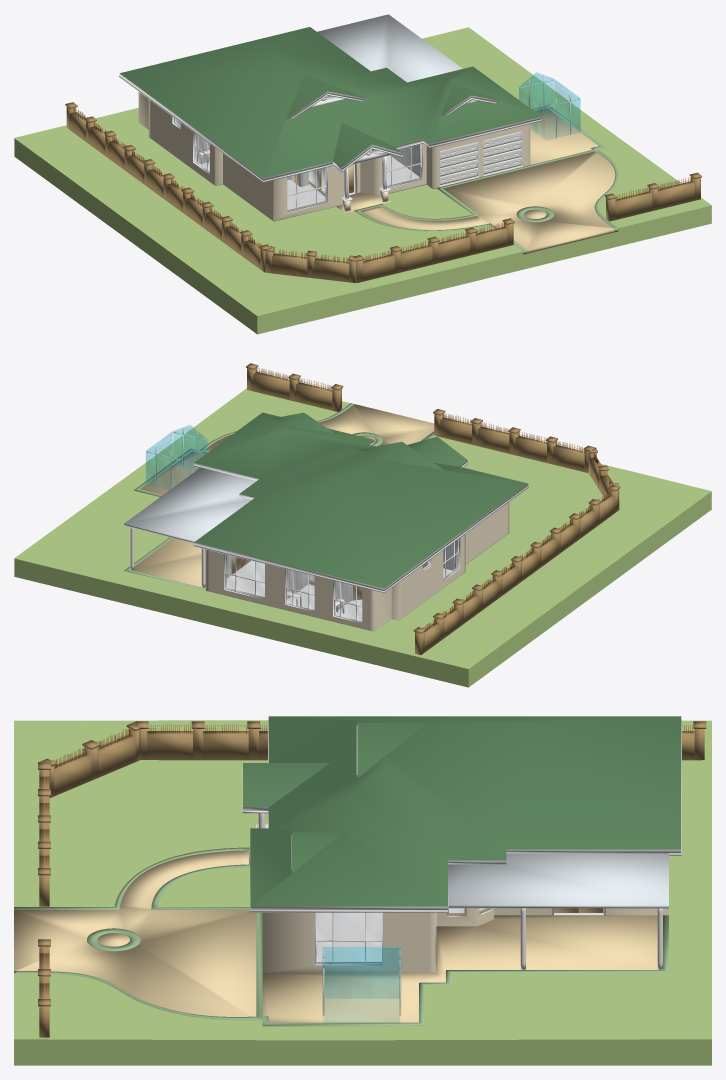
The model's file is house.glb.
The picture shows the model from 3 angles, top to bottom: view 1: azimuth 30°, elevation 25°; view 2: azimuth 150°, elevation 25°; view 3: azimuth 270°, elevation 25°; orthographic projection. The views are drawn at different scales.
Parts seen in each view (by area): view 1: house; view 2: house; view 3: house.
Boxes of the visible parts, <box> form: house: <box>14,14,711,334</box>; house: <box>14,363,711,687</box>; house: <box>14,716,711,1065</box>.
Size of the model in its own units: 27.87 by 6.4 by 25.82.
Materials: 30 (1 with a texture image).
